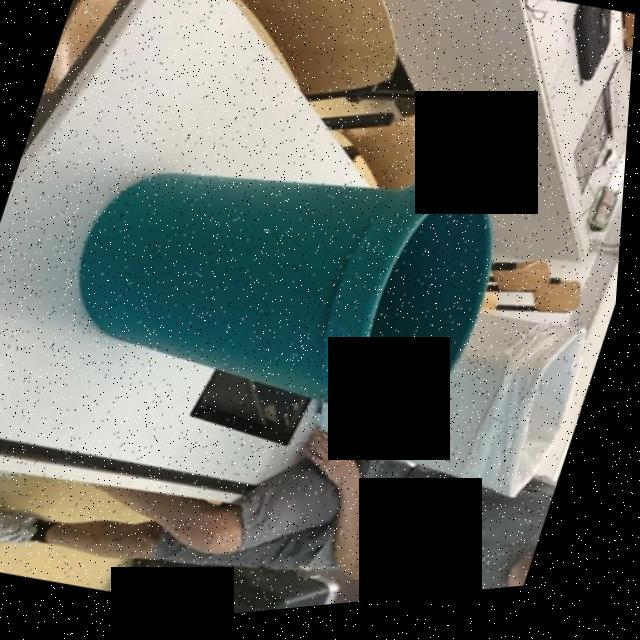bin: (12, 58, 575, 497)
